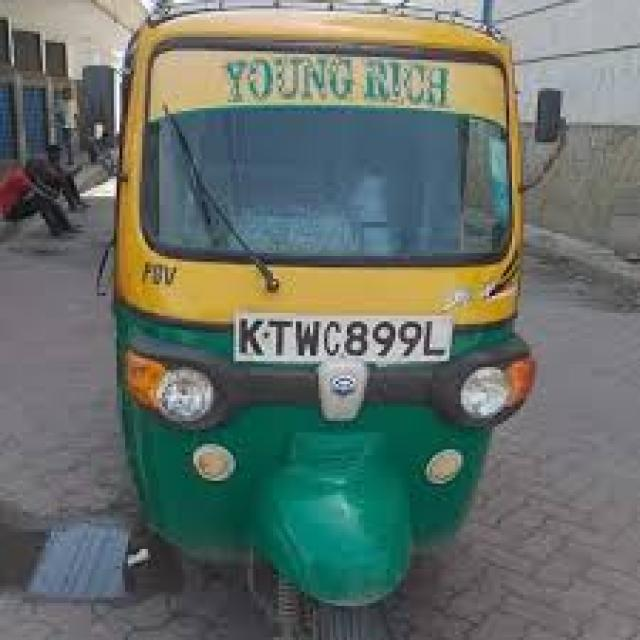tuktuk: (72, 0, 637, 640)
